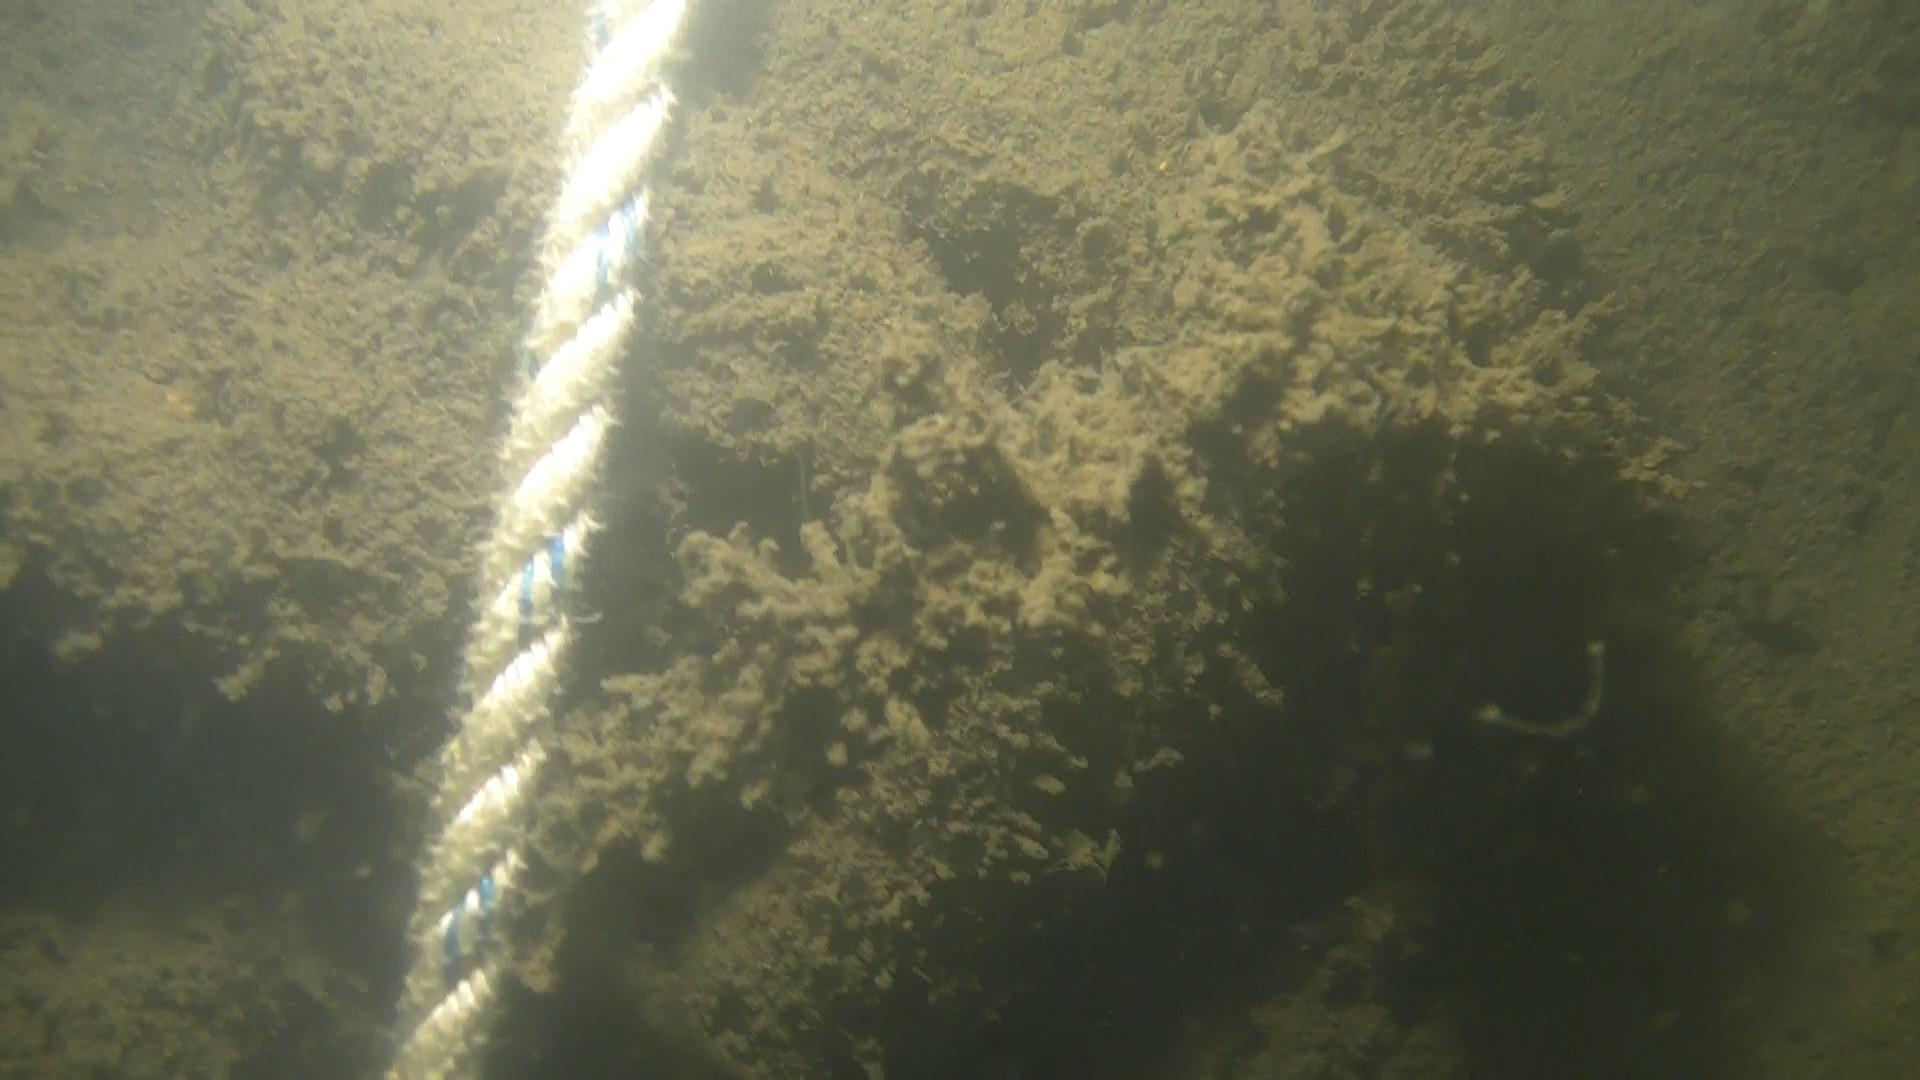rope: (377, 0, 694, 1080)
